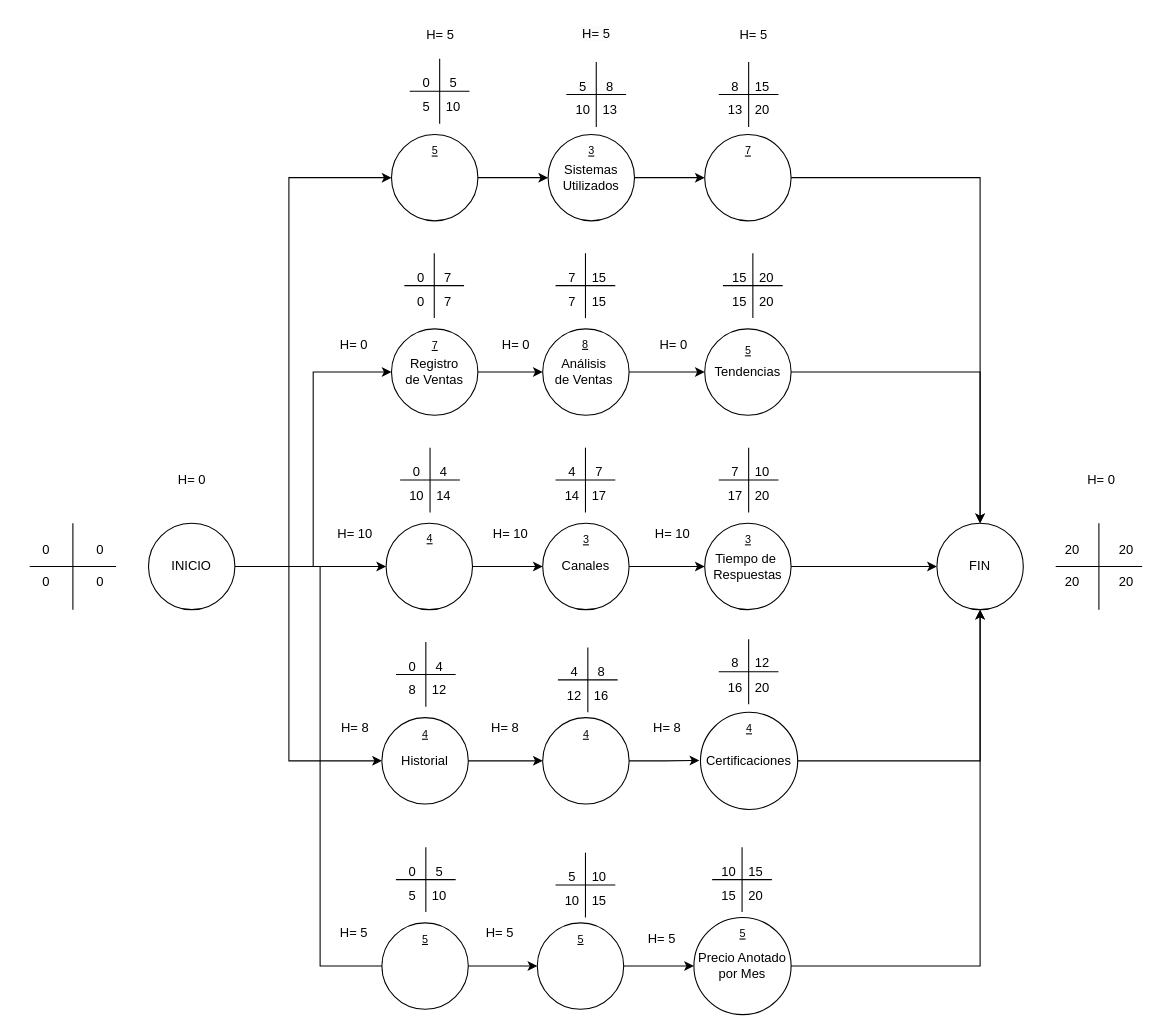
The diagram is 1171 pixels wide and 1034 high, and some of its shapes have lost their labels. The shapes that lost their labels are listed below. From the top down, each one's box as (x1, y1, x2, y2) in pixels, then its label:
(390, 133, 478, 221): Control de Stock
(704, 133, 791, 221): Reabaste- cimiento
(385, 522, 473, 610): Soporte
(542, 717, 629, 804): Referencias
(381, 922, 468, 1009): Costo de Producto
(536, 922, 624, 1009): Detalles del Servicio
